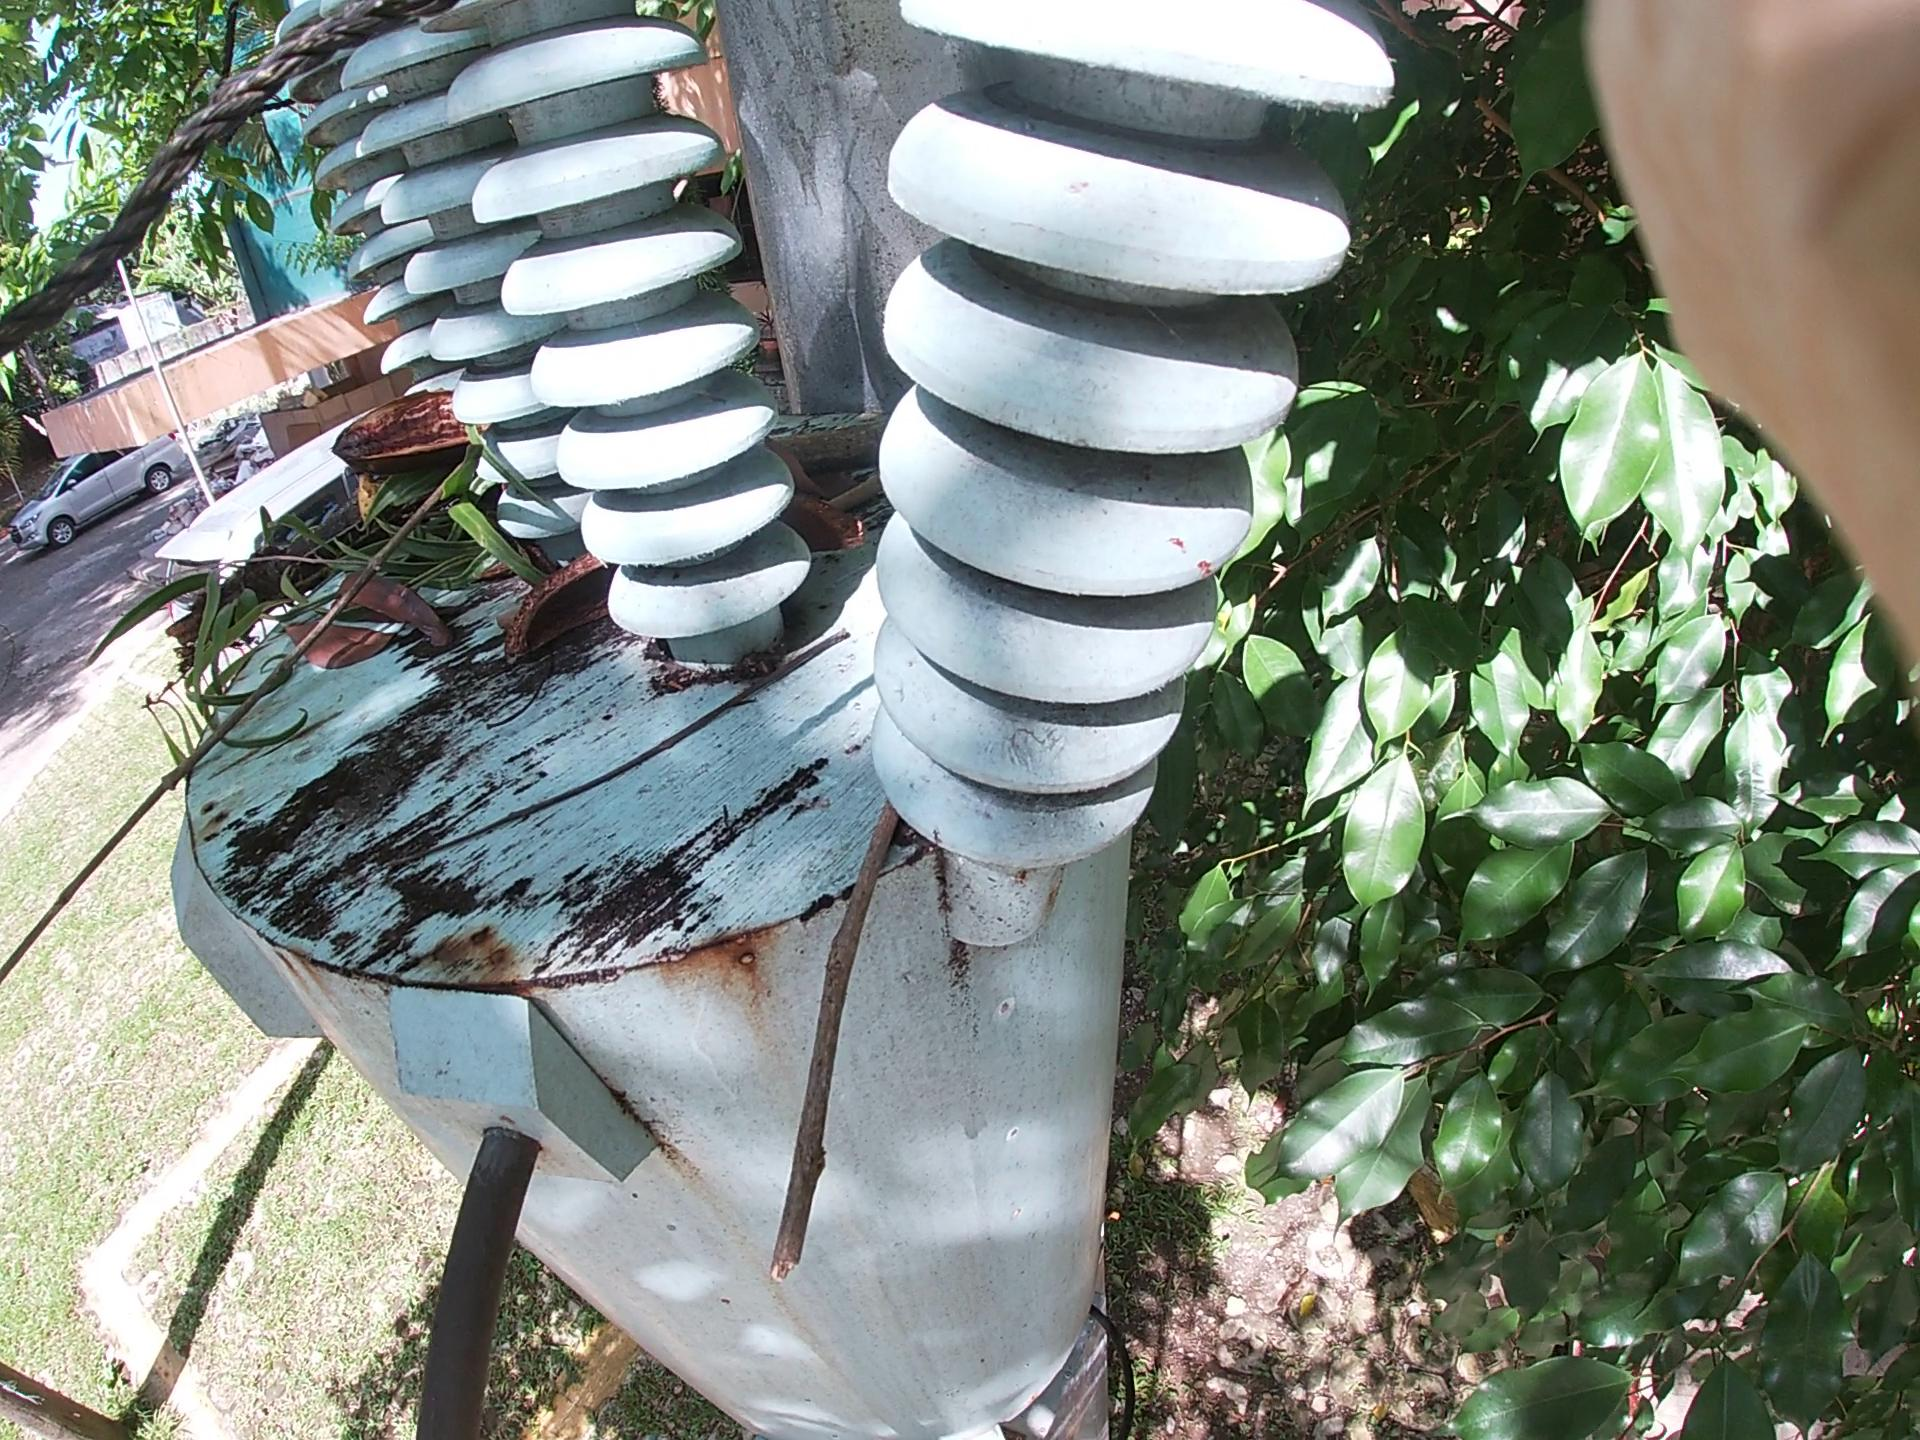branch with leaves: (110, 357, 646, 690)
leaf: (287, 557, 429, 670)
mahogany fruit: (472, 520, 865, 659), (311, 393, 457, 531)
tree branch: (59, 484, 470, 914), (454, 649, 777, 843), (791, 712, 910, 1233), (711, 357, 989, 546)
